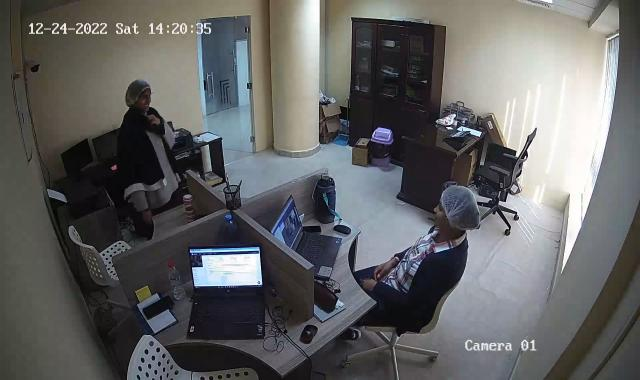hairnet: (434, 186, 480, 238), (126, 80, 154, 112)
